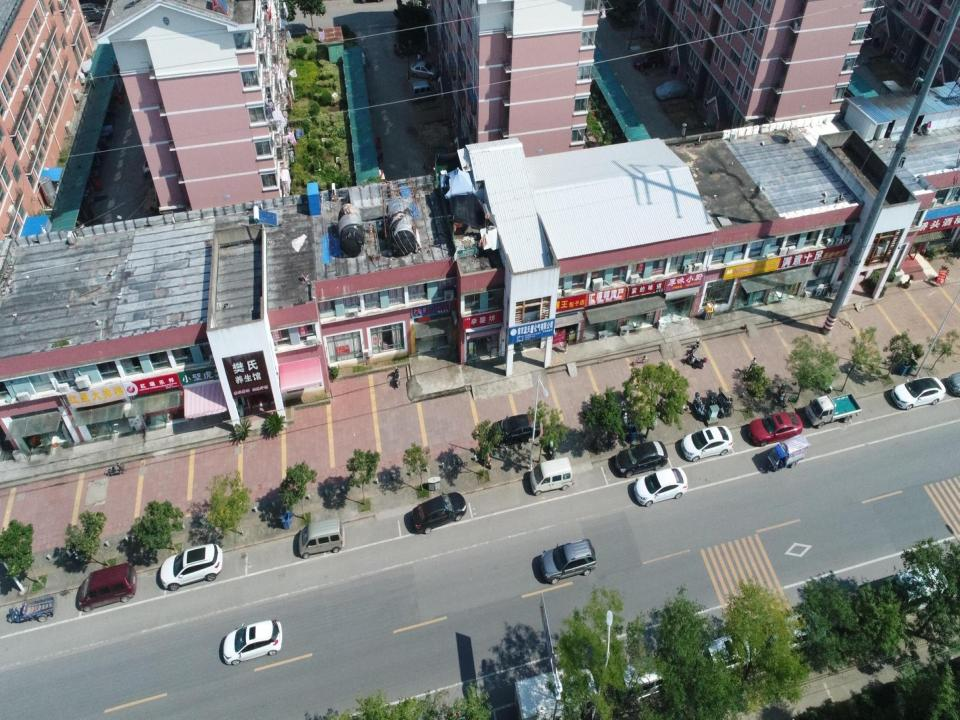car: (697, 630, 761, 685), (160, 542, 224, 591), (764, 610, 826, 660), (222, 618, 282, 666), (891, 561, 949, 608), (540, 538, 597, 585), (411, 491, 467, 534), (633, 466, 688, 508), (614, 440, 669, 478), (748, 411, 804, 447), (680, 425, 733, 463), (890, 376, 946, 411), (488, 413, 541, 449), (654, 79, 689, 102), (633, 49, 665, 72), (409, 60, 439, 82), (141, 154, 165, 180), (77, 2, 106, 23), (947, 369, 959, 399)
truck: (512, 668, 598, 719), (804, 392, 862, 430)
van: (614, 653, 674, 710), (78, 562, 138, 612), (298, 517, 345, 560), (530, 455, 572, 497), (411, 80, 437, 105)
